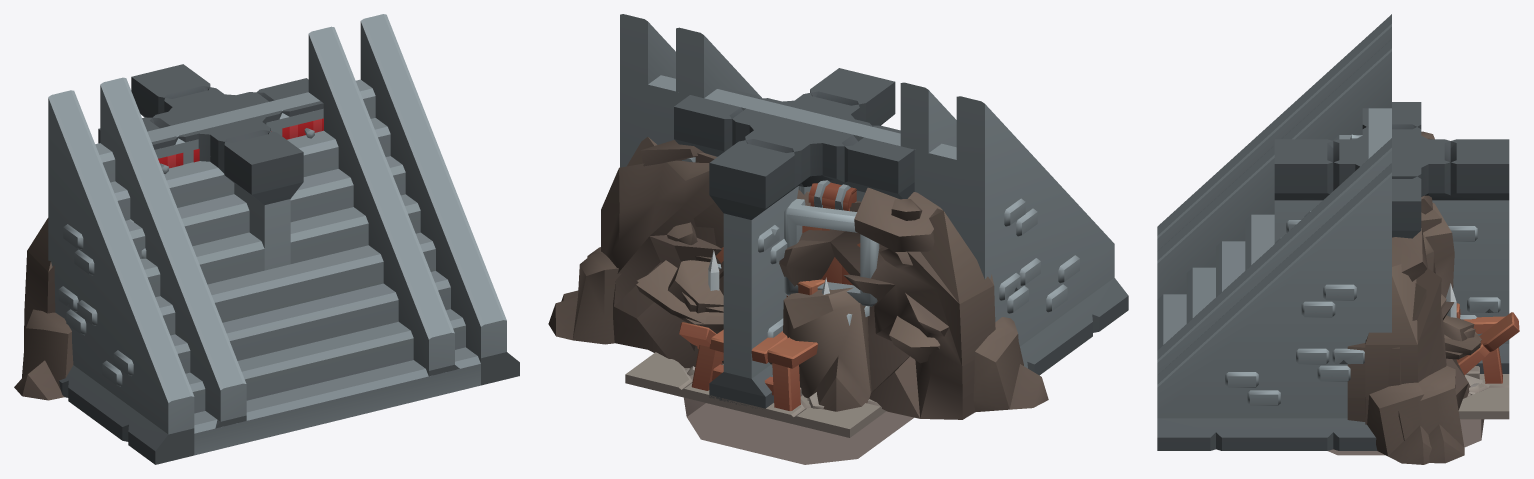
The model's file is dungeon.glb.
The picture shows the model from 3 angles, left to right: view 1: azimuth 30°, elevation 25°; view 2: azimuth 150°, elevation 25°; view 3: azimuth 270°, elevation 25°; orthographic projection. The views are drawn at different scales.
Visible parts, largest first — view 1: stairs_wide, stairs, wall_crossing, rubble_large, wall_Tsplit, banner_triple_red; view 2: rubble_large, stairs_wide, wall_crossing, rubble_half, stairs, floor_tile_big_grate, box_stacked, wall_shelves, table_long_broken, floor_tile_large_rocks, floor_tile_large, wall_pillar (+2 smaller); view 3: stairs_wide, wall_crossing, stairs, rubble_half, rubble_large, table_long_broken, floor_tile_large_rocks, floor_tile_big_grate, wall_Tsplit, floor_dirt_large, wall_corner.
Part boxes in pixels (left/top/right/bottom): stairs_wide: left=48, top=14, right=519, bottom=464; stairs: left=100, top=26, right=459, bottom=428; wall_crossing: left=98, top=64, right=323, bottom=248; rubble_large: left=14, top=218, right=73, bottom=400; wall_Tsplit: left=156, top=93, right=303, bottom=270; banner_triple_red: left=158, top=118, right=323, bottom=173; rubble_large: left=561, top=187, right=1048, bottom=419; stairs_wide: left=620, top=14, right=1128, bottom=375; wall_crossing: left=674, top=68, right=914, bottom=409; rubble_half: left=548, top=137, right=723, bottom=368; stairs: left=676, top=27, right=956, bottom=152; floor_tile_big_grate: left=625, top=379, right=913, bottom=464; box_stacked: left=716, top=180, right=879, bottom=364; wall_shelves: left=674, top=107, right=902, bottom=199; table_long_broken: left=679, top=322, right=818, bottom=410; floor_tile_large_rocks: left=625, top=352, right=882, bottom=437; floor_tile_large: left=625, top=375, right=886, bottom=437; wall_pillar: left=749, top=100, right=854, bottom=194; stairs_wide: left=1157, top=14, right=1391, bottom=450; wall_crossing: left=1274, top=102, right=1509, bottom=373; stairs: left=1157, top=39, right=1391, bottom=374; rubble_half: left=1365, top=209, right=1480, bottom=463; rubble_large: left=1347, top=131, right=1481, bottom=464; table_long_broken: left=1456, top=303, right=1519, bottom=383; floor_tile_large_rocks: left=1458, top=374, right=1509, bottom=412; floor_tile_big_grate: left=1328, top=411, right=1509, bottom=455; wall_Tsplit: left=1274, top=141, right=1336, bottom=232; floor_dirt_large: left=1459, top=383, right=1509, bottom=419; wall_corner: left=1305, top=124, right=1412, bottom=199.
Size of the model in its own units: 8.13 by 6.3 by 6.18.
Materials: 1 (1 with a texture image).
